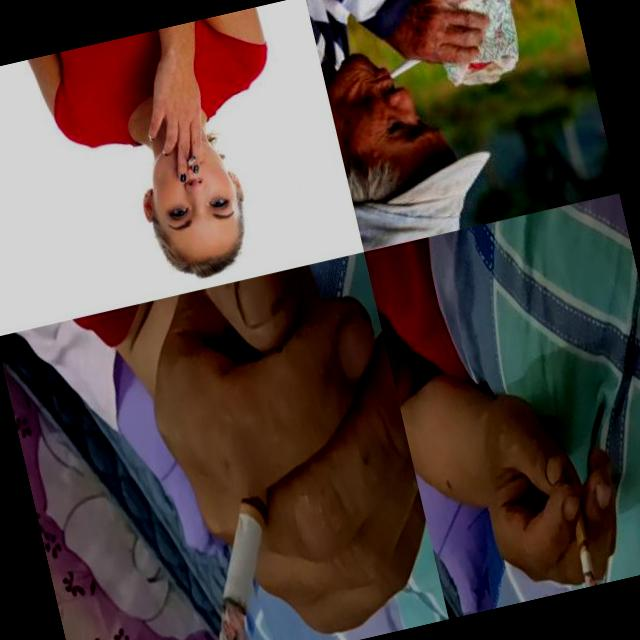smoke: (162, 438, 313, 640), (564, 490, 598, 588), (376, 56, 435, 84), (183, 154, 199, 168)
